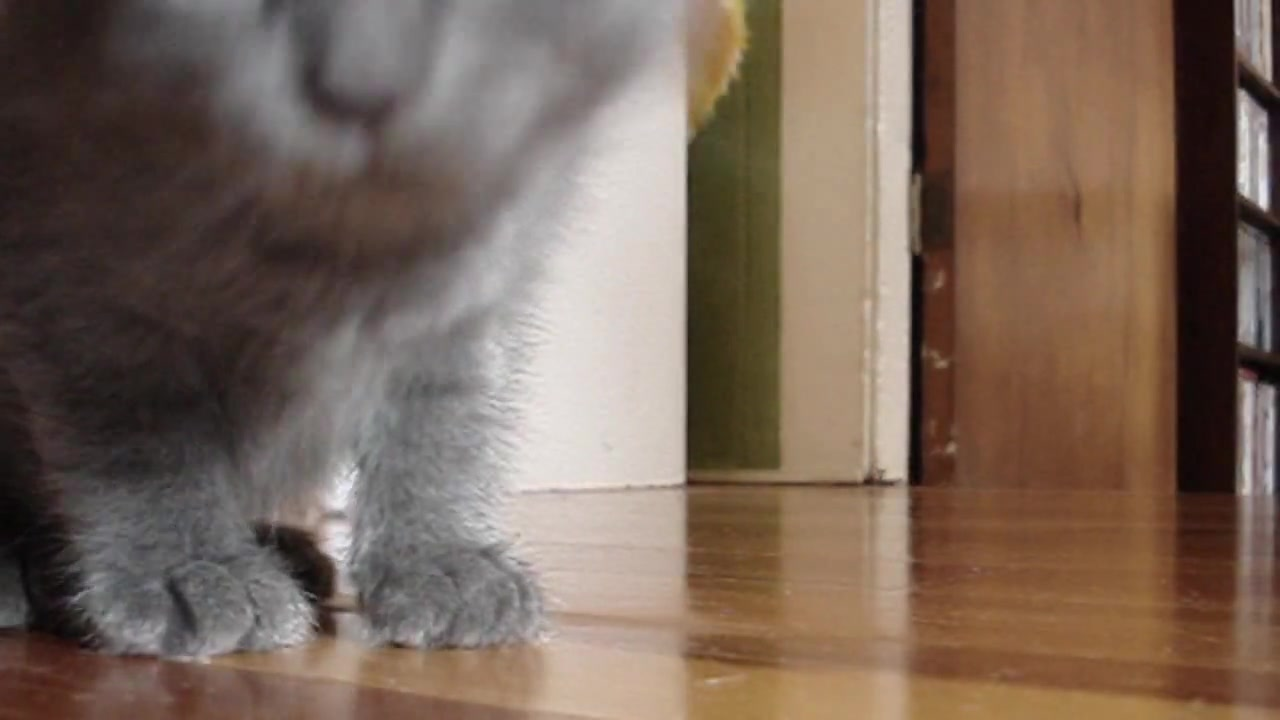cat: (1, 2, 681, 653)
